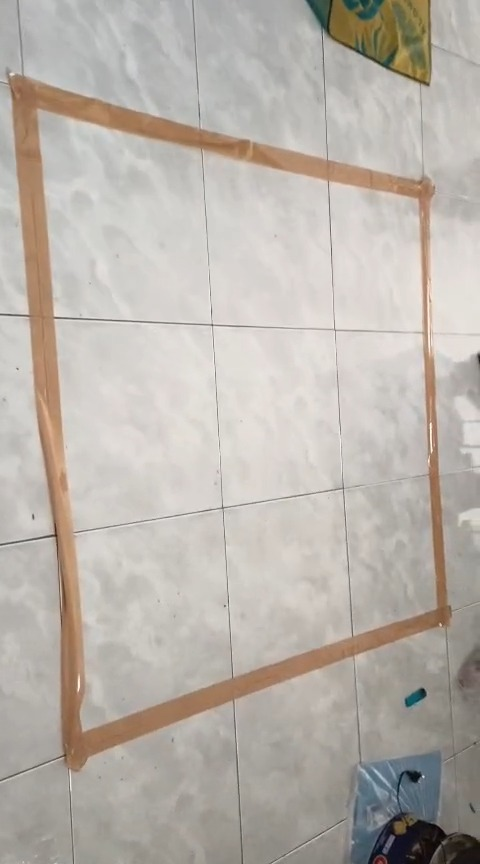floor marking: (11, 75, 451, 769)
